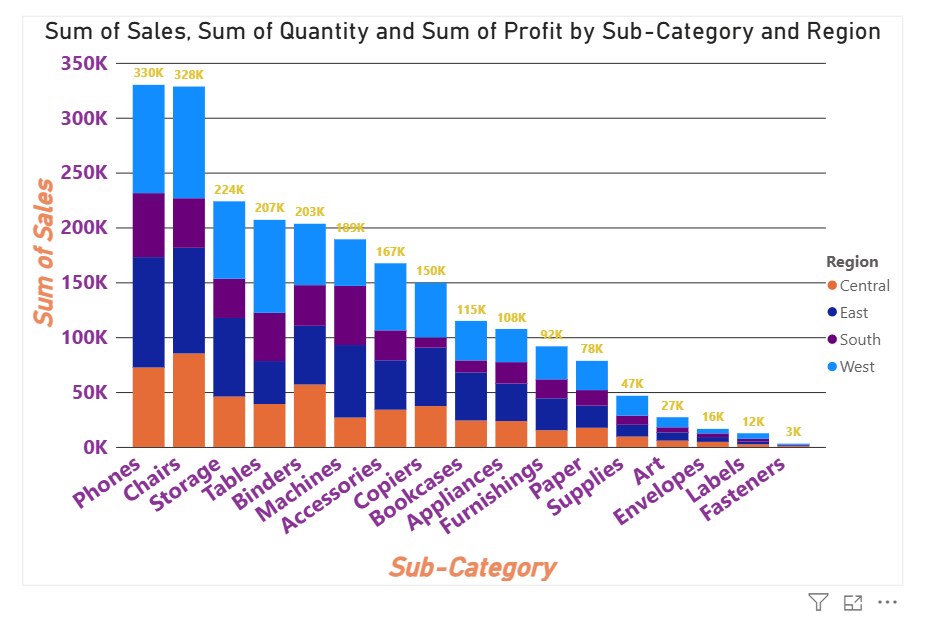

This screenshot's page, from the dashboard's own definition file:
{"tool":"powerbi","page":{"name":"Page 1","canvas":[1280,720],"ordinal":0},"visuals":[{"type":"columnChart","fields":{"Y":["Sum(sample.Sales)"],"Category":["sample.Sub-Category"]},"box":[10.2,0,839.1,559.4],"z":0}]}

Visuals, with their boxes on the page's 1280x720 design canvas (x1, y1, x2, y2). These are canvas units, not pixel positions in the 952x631 screenshot, which may show the page scaled, cropped or inside an application window:
columnChart - Sum(sample.Sales) x sample.Sub-Category: BBox(10, 0, 849, 559)
